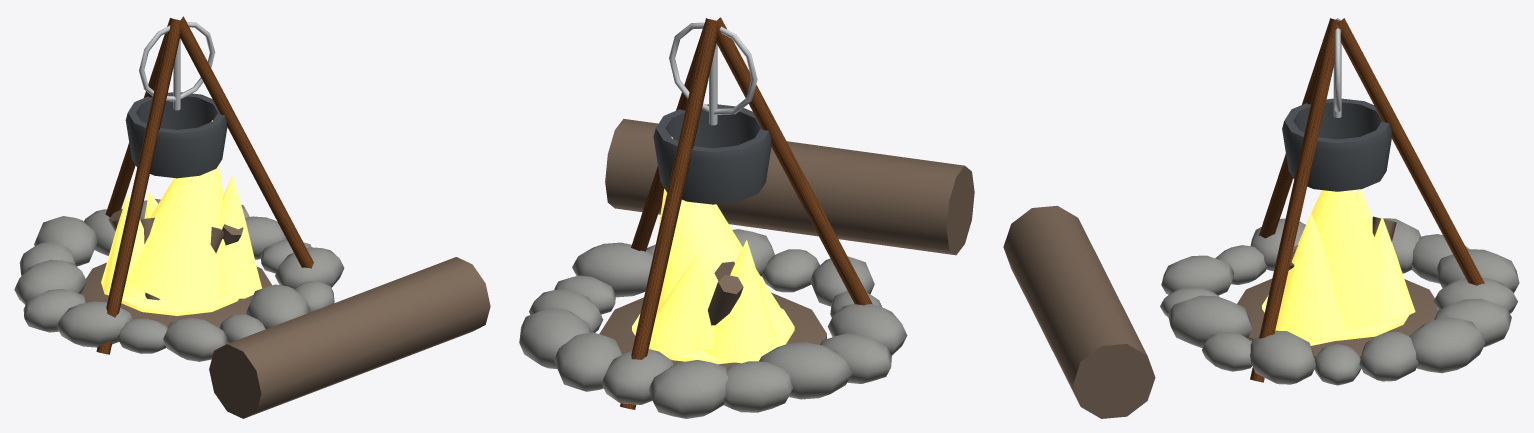
File: fps-survival-forest-outpost-cooking-fire-56fa2805__32636.glb
The picture shows the model from 3 angles, left to right: view 1: azimuth 30°, elevation 25°; view 2: azimuth 150°, elevation 25°; view 3: azimuth 270°, elevation 25°; orthographic projection. The views are drawn at different scales.
Parts seen in each view (by area): view 1: cooking-fire; view 2: cooking-fire; view 3: cooking-fire.
Boxes of the visible parts, box(x1,y1,x2,y2) form: cooking-fire: box(14, 16, 490, 418); cooking-fire: box(519, 17, 974, 418); cooking-fire: box(1003, 18, 1519, 418).
Bounding box in the file's own units: 1.93 × 1.67 × 2.32.
Materials: 6 (2 with a texture image).
